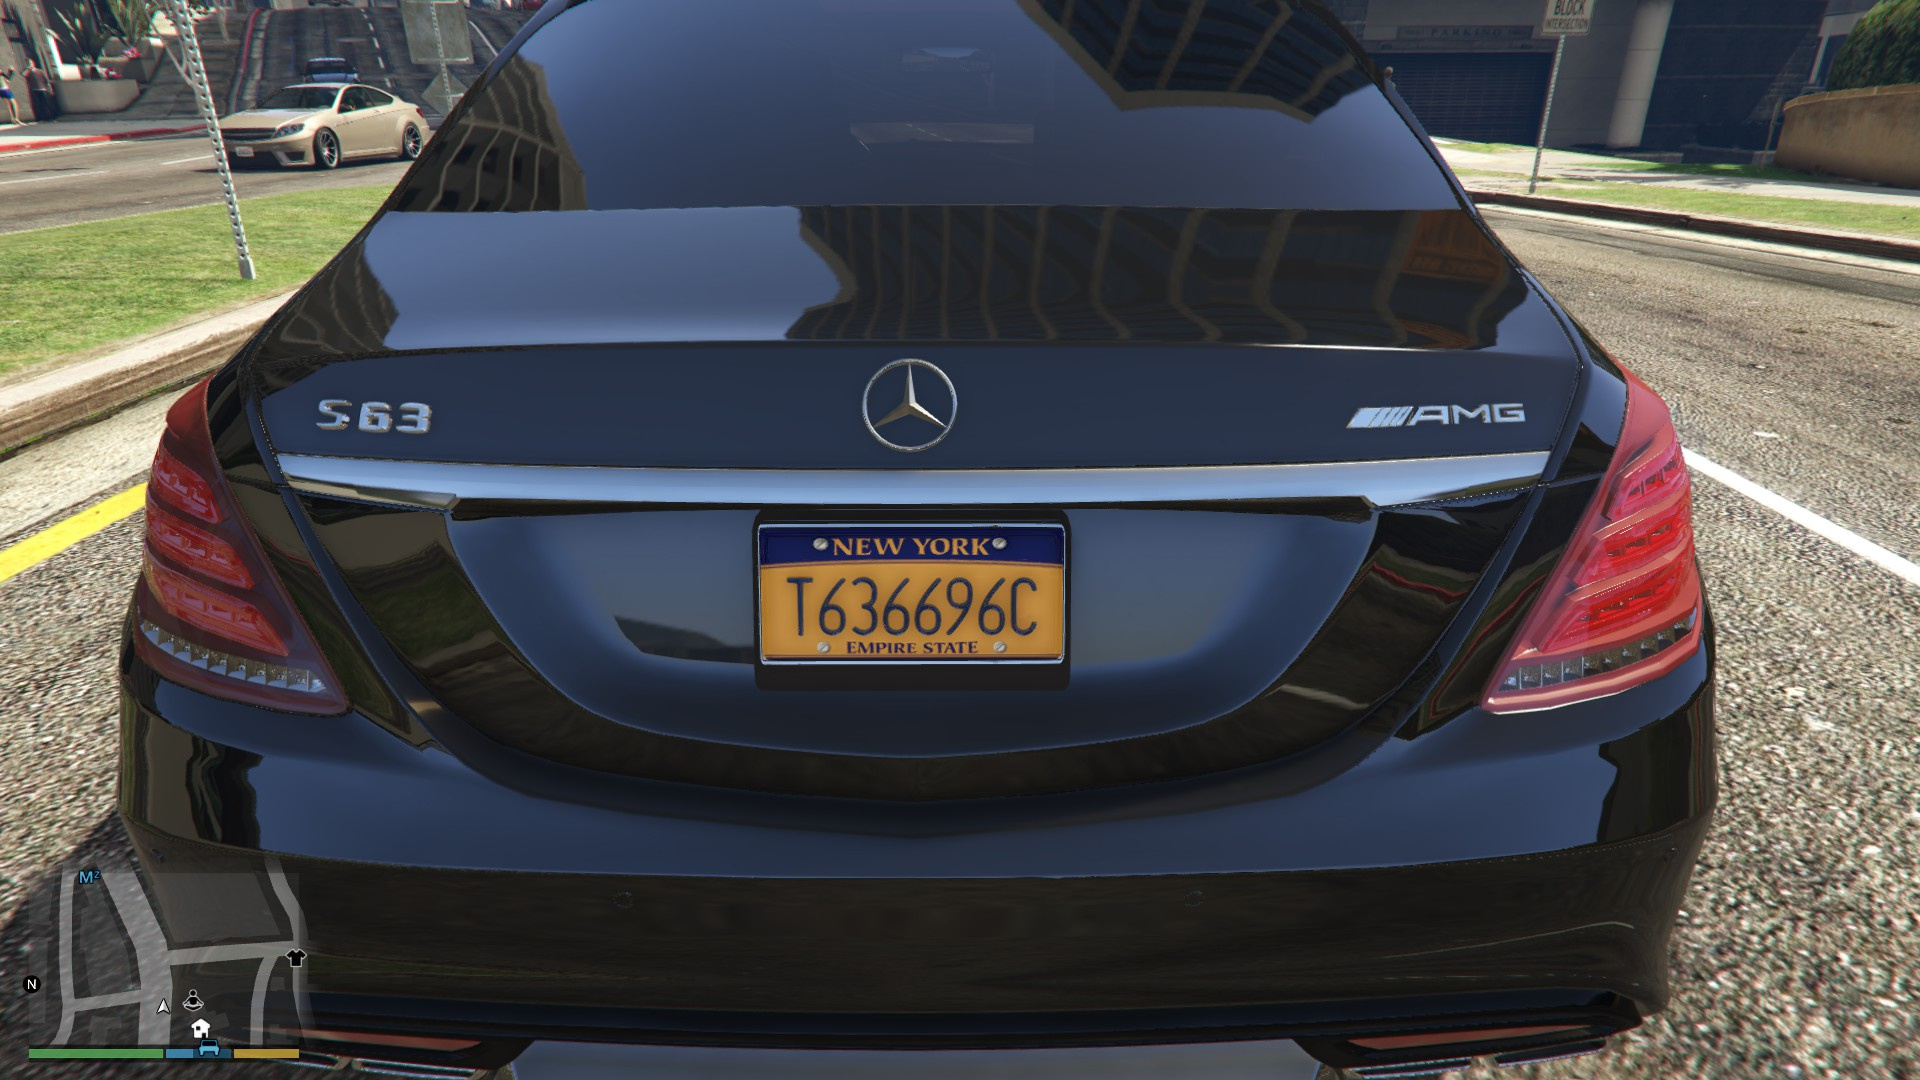number_plate: (740, 536, 1121, 705)
